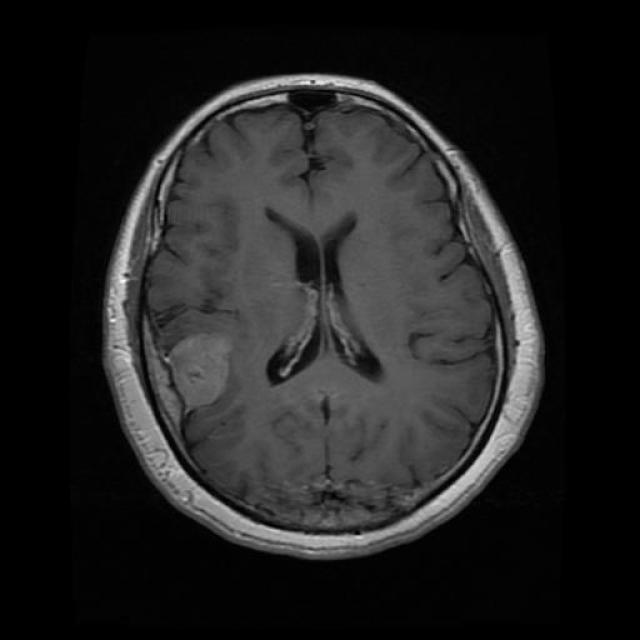meningioma: (168, 335, 234, 411)
